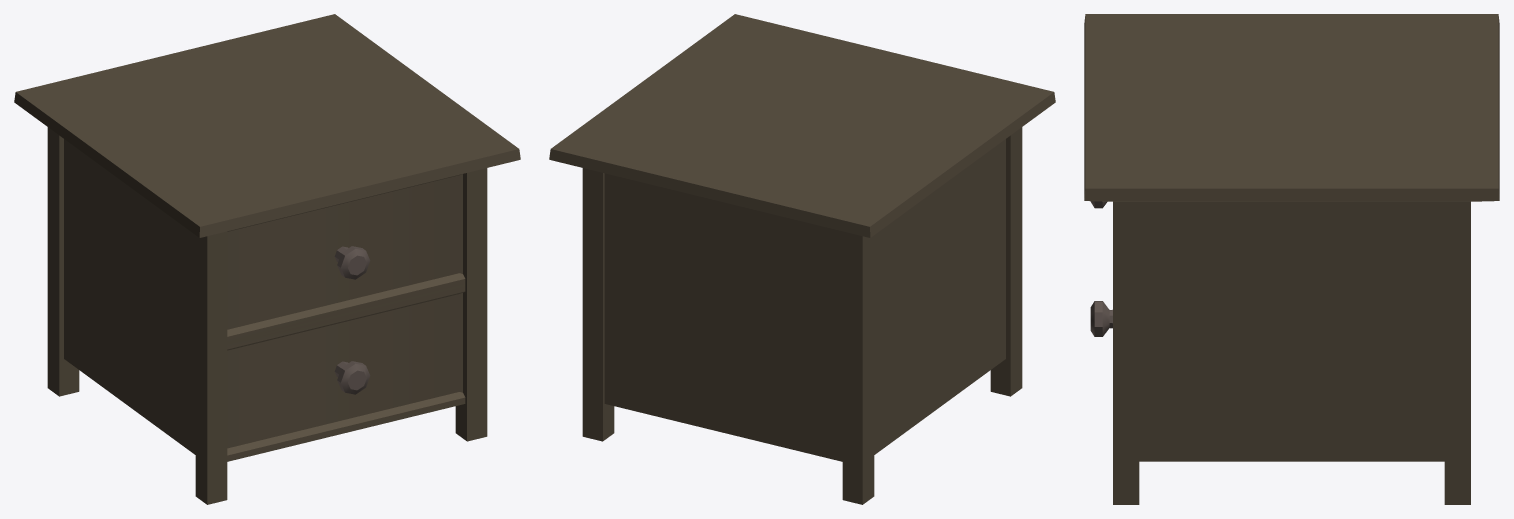
The model's file is NightStand_3.glb.
The picture shows the model from 3 angles, left to right: view 1: azimuth 30°, elevation 25°; view 2: azimuth 150°, elevation 25°; view 3: azimuth 270°, elevation 25°; orthographic projection. The views are drawn at different scales.
Visible parts, largest first — view 1: NightStand_3; view 2: NightStand_3; view 3: NightStand_3.
Boxes of the visible parts, x1,y1,x2,y2 form: NightStand_3: [14, 14, 520, 504]; NightStand_3: [549, 14, 1055, 504]; NightStand_3: [1084, 14, 1499, 504].
Bounding box in the file's own units: 0.4656 × 0.4044 × 0.4656.
2 materials, 2 textured.
